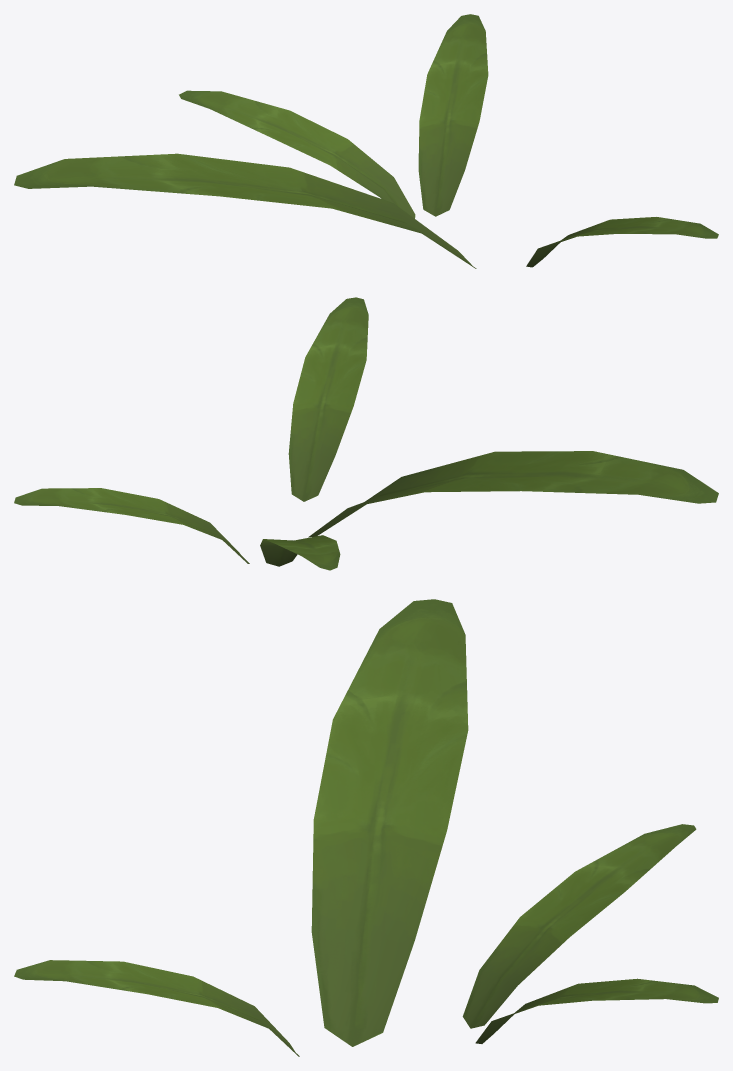
The model's file is grass_005.glb.
The picture shows the model from 3 angles, top to bottom: view 1: azimuth 30°, elevation 25°; view 2: azimuth 150°, elevation 25°; view 3: azimuth 270°, elevation 25°; orthographic projection. The views are drawn at different scales.
Parts seen in each view (by area): view 1: Plane.002; view 2: Plane.002; view 3: Plane.002.
Boxes of the visible parts, box(x1,y1,x2,y2) form: Plane.002: box(14, 14, 718, 268); Plane.002: box(14, 297, 718, 570); Plane.002: box(14, 599, 718, 1056).
Bounding box in the file's own units: 0.5836 × 0.1593 × 0.5119.
1 material, 1 textured.
